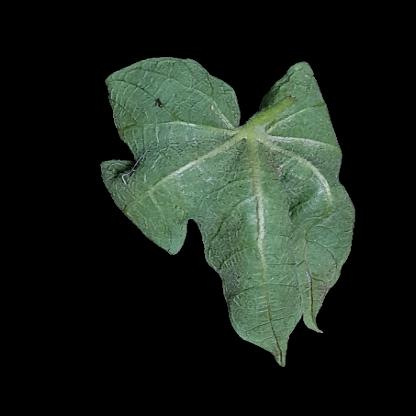curl_stage2: (120, 74, 228, 204), (228, 148, 312, 303), (271, 87, 326, 148), (308, 186, 346, 270), (194, 210, 245, 262), (229, 305, 295, 337), (126, 207, 186, 235)
